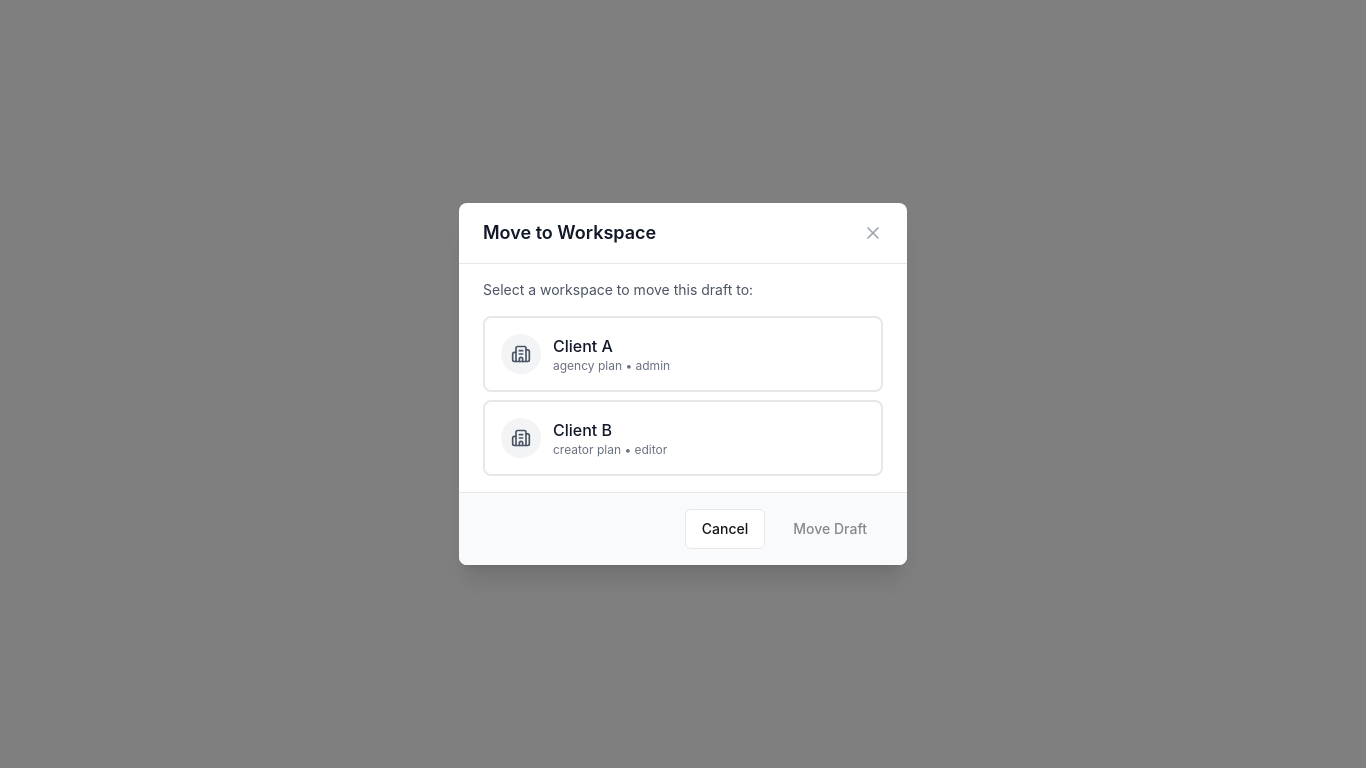
Test case: MoveToWorkspaceDialog - Story 3.8 › Given the move operation fails › When I click "Move Draft", Then I see an error message
Expected: the text "Client A" is shown, [553,336,613,356]
Note: Select a workspace
Click the button "Client A agency plan • admin". click: x=521, y=354
box: [483,316,883,392]
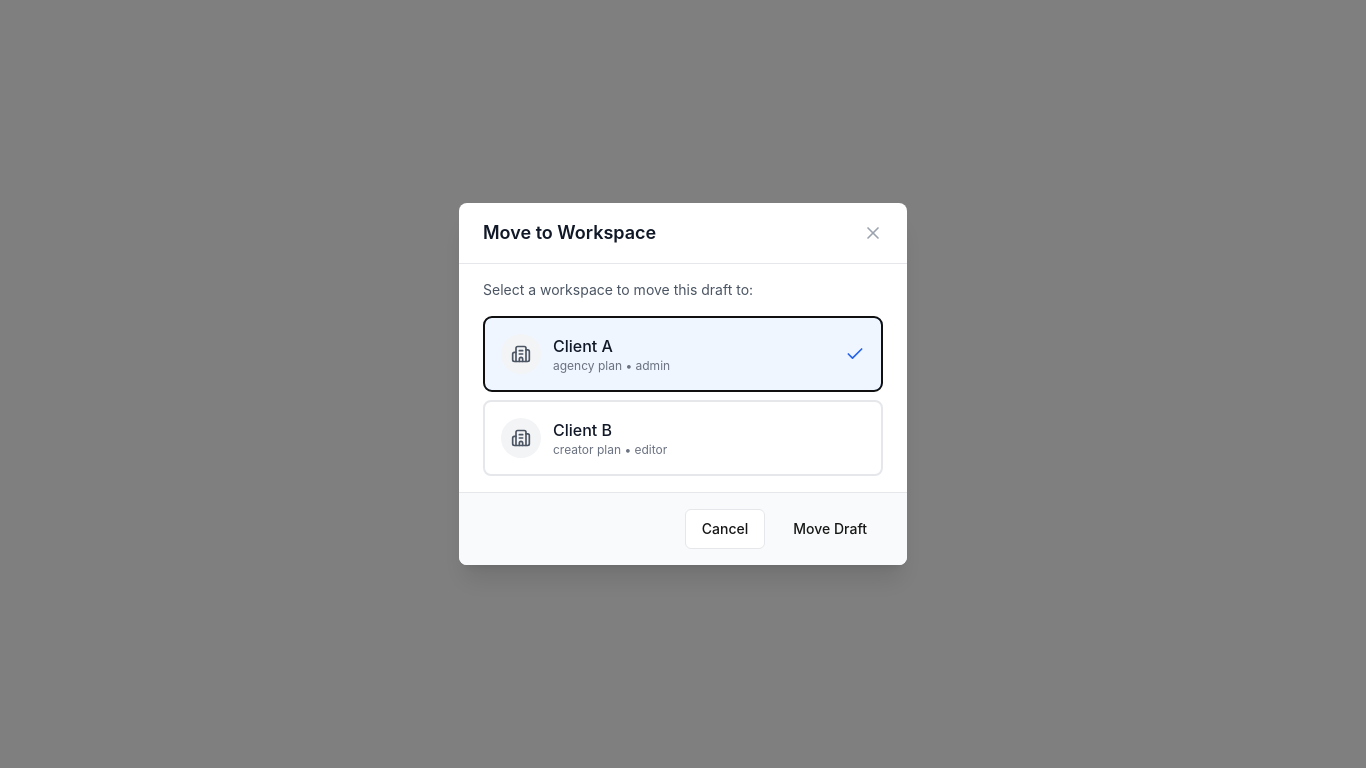
Note: Click Move Draft button
Click the button "Move Draft". click: x=830, y=529
box: [777,509,883,549]
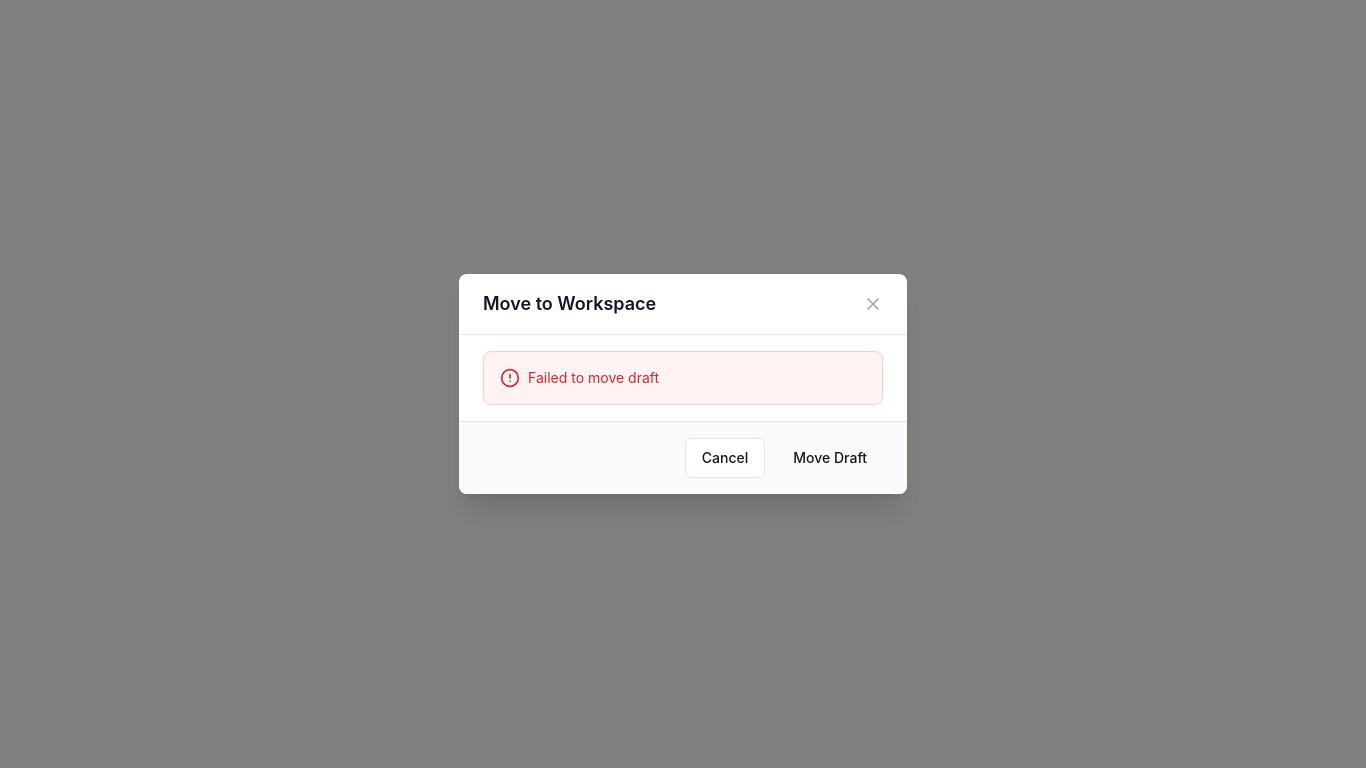
Expected: the text "Failed to move draft" is shown, [528,368,659,388]
